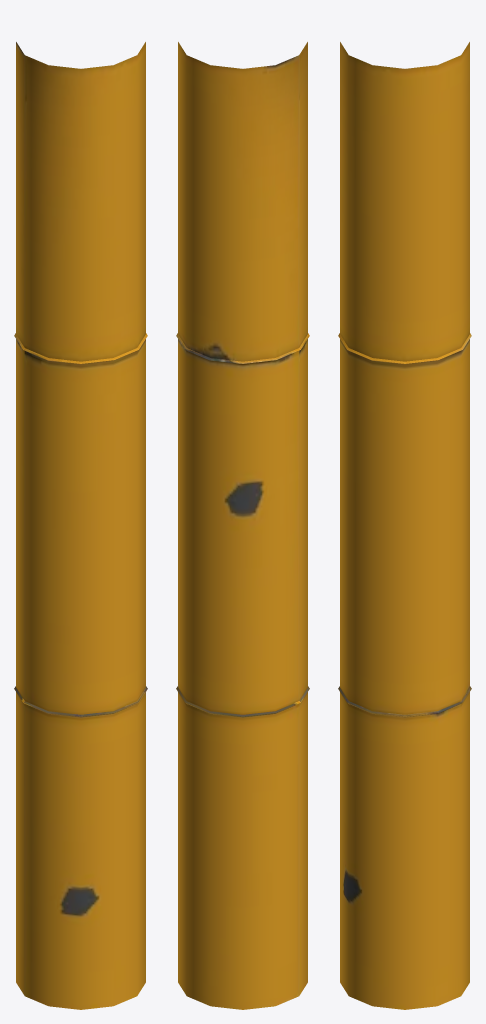
3 views of the same model, side by side, from view 1: azimuth 30°, elevation 25°; view 2: azimuth 150°, elevation 25°; view 3: azimuth 330°, elevation 25° (orthographic).
Parts seen in each view (by area): view 1: body0_model0_lod0_mesh0; view 2: body0_model0_lod0_mesh0; view 3: body0_model0_lod0_mesh0.
Part boxes in pixels (x1=…): body0_model0_lod0_mesh0: x1=14, y1=42, x2=147, y2=1009; body0_model0_lod0_mesh0: x1=176, y1=42, x2=309, y2=1009; body0_model0_lod0_mesh0: x1=338, y1=42, x2=471, y2=1009.
Size of the model in its own units: 65.91 by 512 by 65.91.
1 material, 1 textured.
